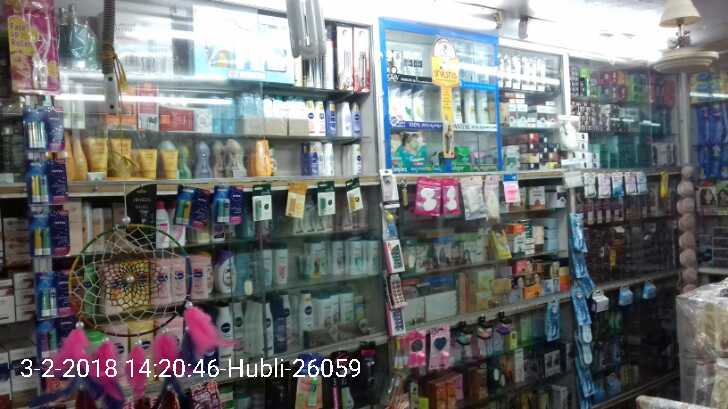gillete: (581, 68, 591, 94)
venus: (573, 290, 591, 324), (475, 47, 490, 84), (578, 366, 595, 397), (570, 213, 585, 247), (460, 45, 473, 79), (547, 300, 559, 336), (574, 252, 587, 277), (578, 343, 592, 365), (579, 326, 592, 342)
